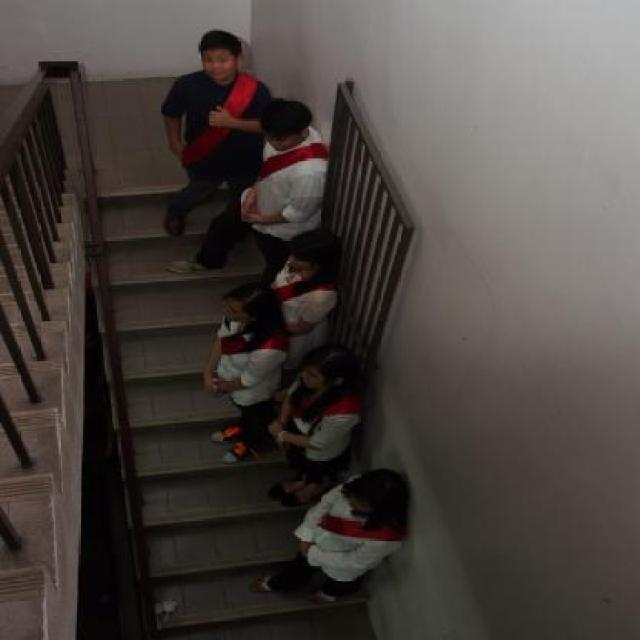stair: (0, 75, 385, 640)
